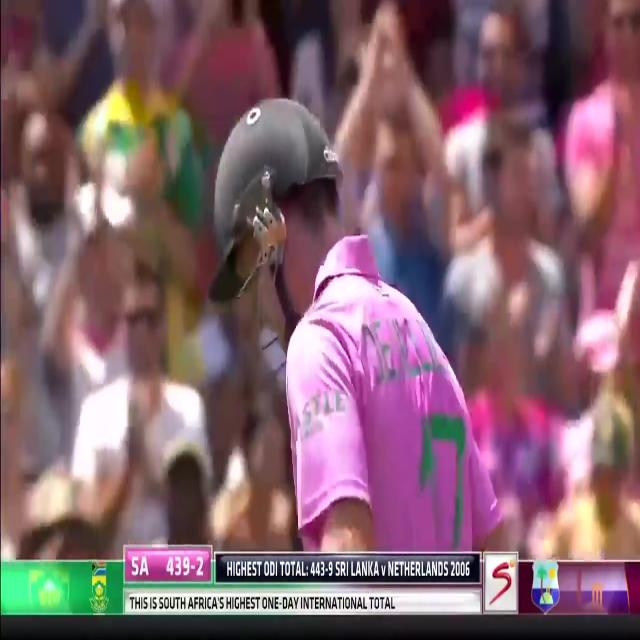Ball: (227, 85, 504, 551)
